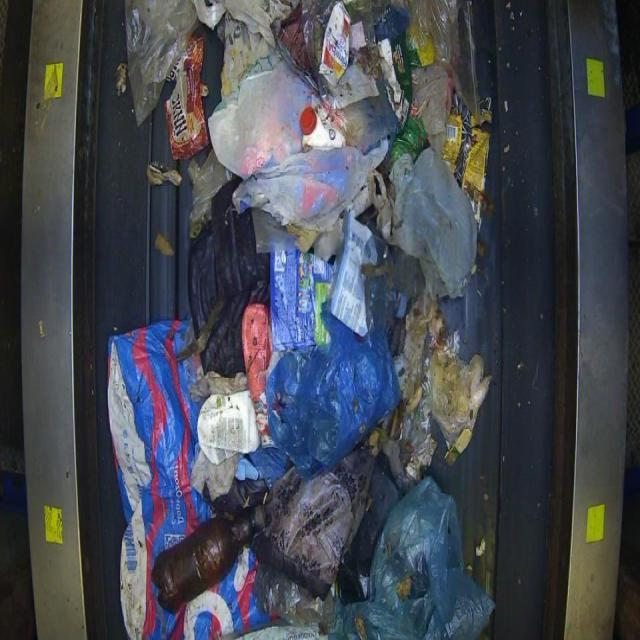cups: (150, 513, 252, 614), (196, 389, 260, 464)
other-trash: (107, 0, 496, 638)
